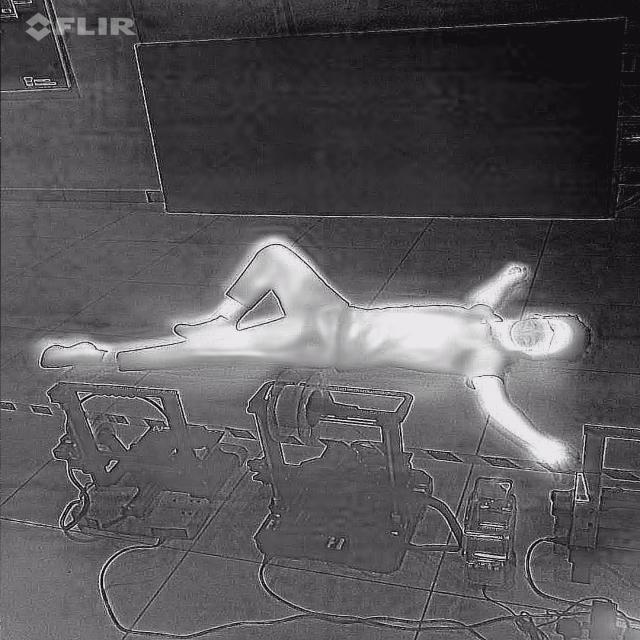Victim: (33, 235, 602, 480)
